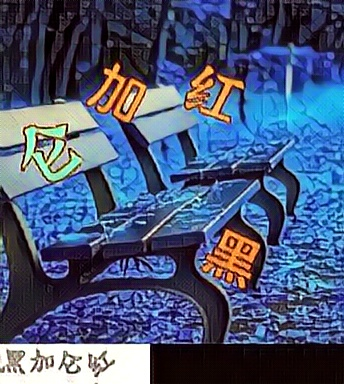BADA: (199, 224, 262, 291)
BAEC: (182, 57, 245, 124)
BCD3: (85, 60, 148, 127)
C2D8: (19, 118, 82, 185)
